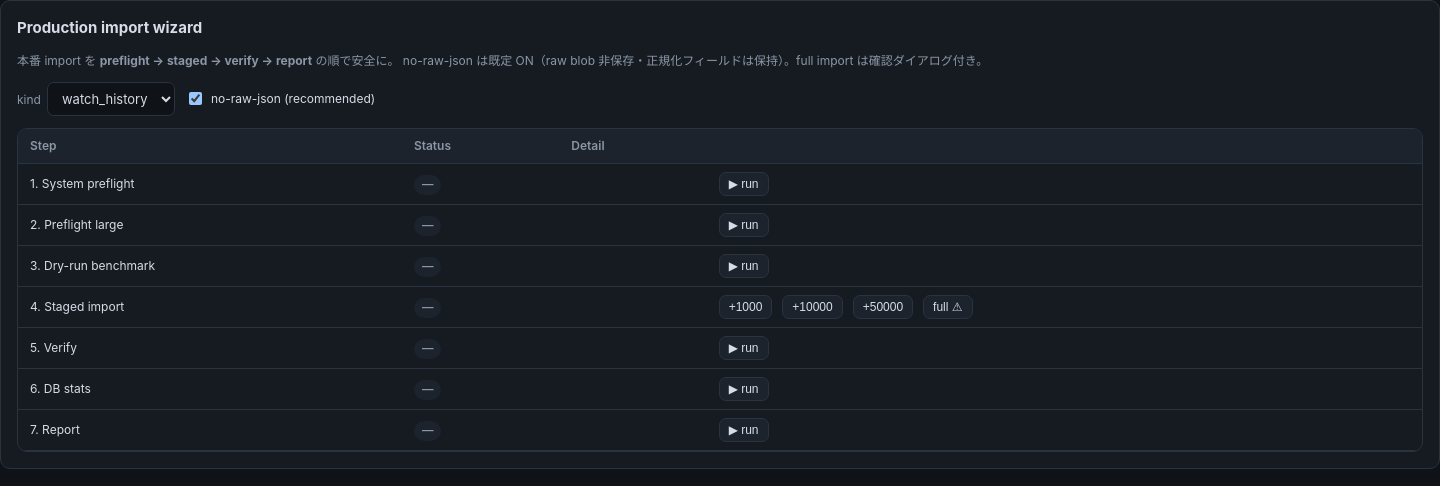
Scenario: Phase 6G production import wizard › preflight step flags healthy build match
Step 1. Click the button "▶ run" in the row of "1. System preflight" → (744, 184), box [719,172,768,196]
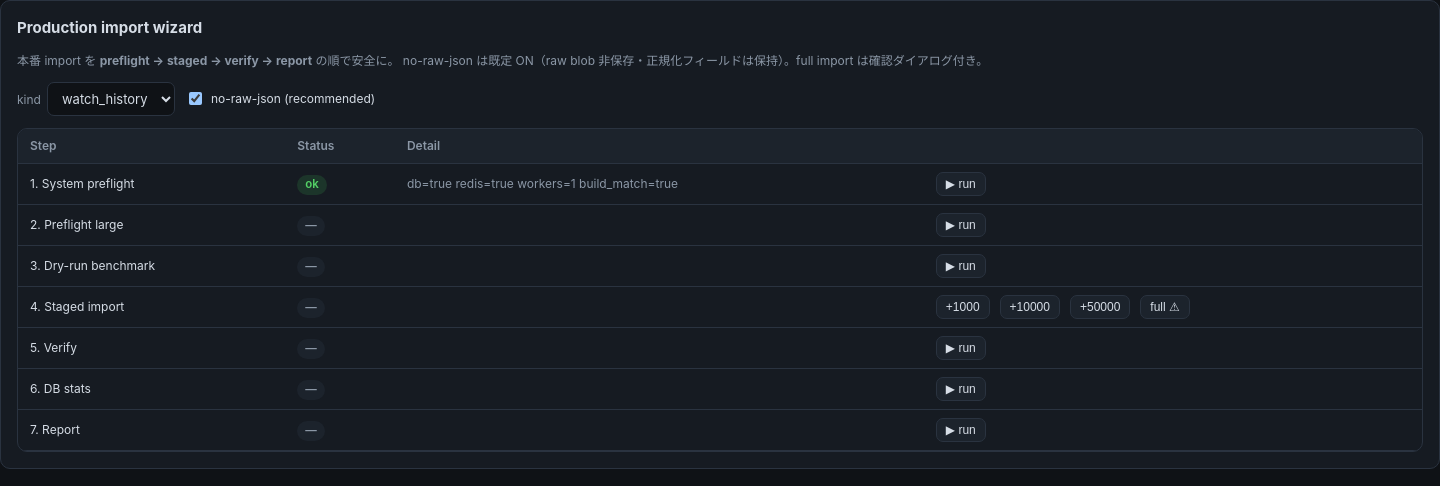
Now the text "db=true redis=true workers=1 build_match=true" is shown, box [395,163,924,204]
